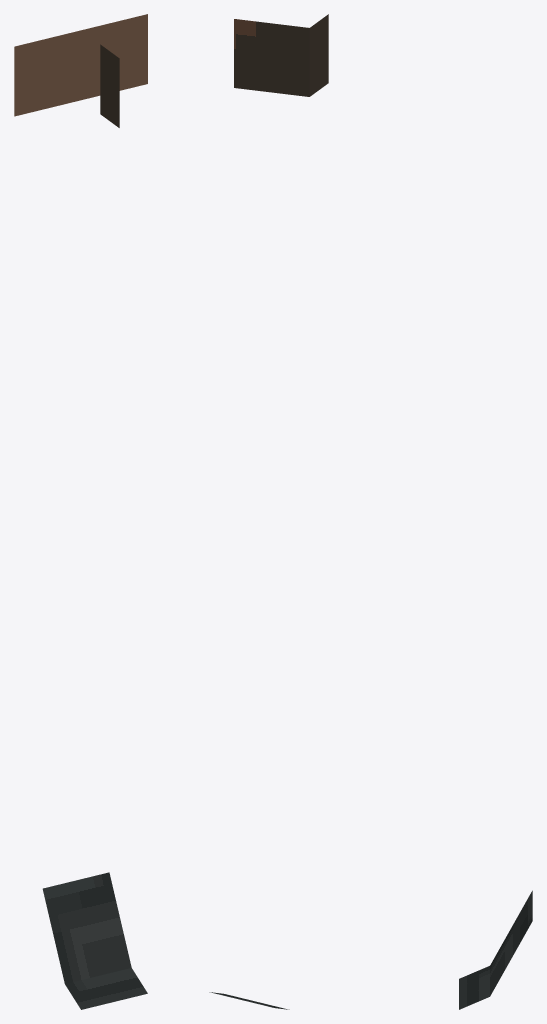
The picture shows the model from 3 angles, left to right: view 1: azimuth 30°, elevation 25°; view 2: azimuth 150°, elevation 25°; view 3: azimuth 270°, elevation 25°; orthographic projection. The views are drawn at different scales.
Size of the model in its own units: 1 by 7 by 1.
Materials: 2 (2 with a texture image).
